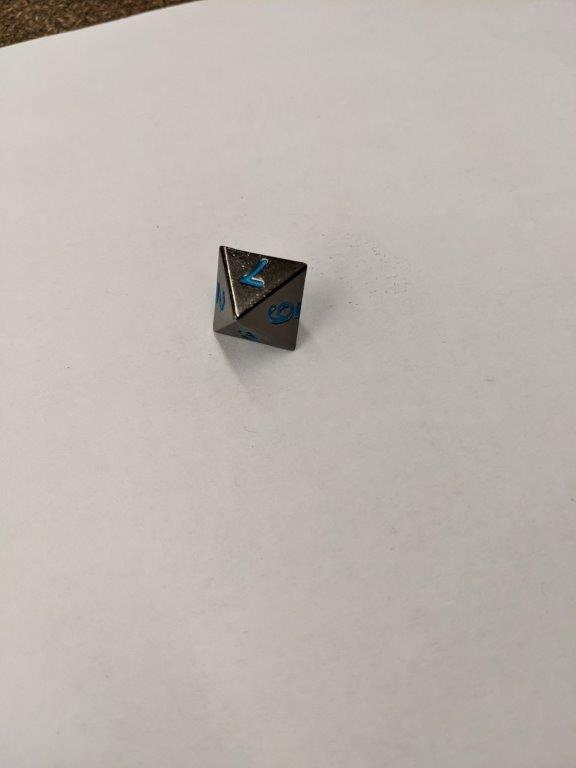d8-7: (210, 240, 308, 352)
